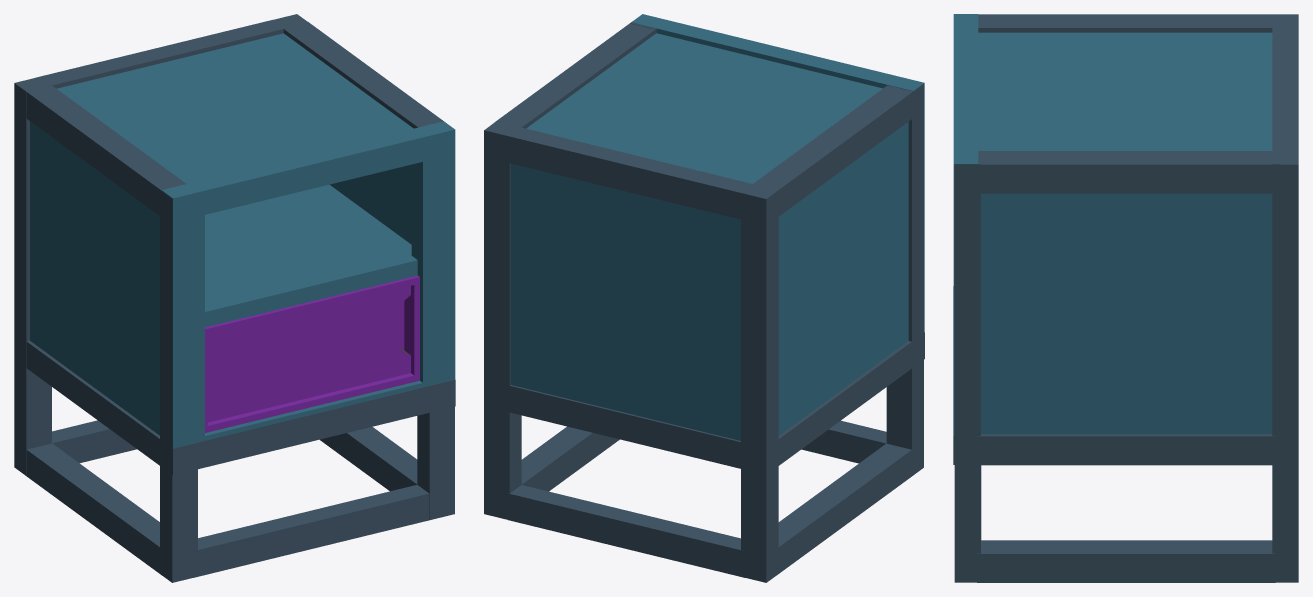
File: bedside_table_tier16.fbx
The picture shows the model from 3 angles, left to right: view 1: azimuth 30°, elevation 25°; view 2: azimuth 150°, elevation 25°; view 3: azimuth 270°, elevation 25°; orthographic projection. The views are drawn at different scales.
Visible parts, largest first — view 1: Cube.017, Cube.022, Cube.001, Cube.023, Cube.005, Cube.013, Cube.003, Cube.004, Cube.002, Cube.021, Cube.016, Cube.018 (+6 smaller); view 2: Cube.008, Cube.017, Cube.022, Cube.004, Cube.010, Cube.019, Cube.014, Cube.003, Cube.021, Cube.006, Cube.016, Cube.001 (+4 smaller); view 3: Cube.011, Cube.017, Cube.015, Cube.020, Cube.010, Cube.009, Cube.007, Cube.021, Cube.001, Cube.019.
Boxes of the visible parts, <box> form: Cube.017: <box>57,33,413,183</box>; Cube.022: <box>30,121,159,435</box>; Cube.001: <box>161,121,455,448</box>; Cube.023: <box>205,275,419,432</box>; Cube.005: <box>205,184,417,327</box>; Cube.013: <box>193,485,429,577</box>; Cube.003: <box>160,183,197,582</box>; Cube.004: <box>14,78,51,475</box>; Cube.002: <box>177,379,455,468</box>; Cube.021: <box>26,85,185,215</box>; Cube.016: <box>26,443,159,573</box>; Cube.018: <box>26,340,198,475</box>; Cube.008: <box>510,163,740,440</box>; Cube.017: <box>526,33,882,183</box>; Cube.022: <box>778,122,908,435</box>; Cube.004: <box>741,184,778,582</box>; Cube.010: <box>484,121,521,519</box>; Cube.019: <box>507,127,752,220</box>; Cube.014: <box>507,485,745,577</box>; Cube.003: <box>886,84,923,475</box>; Cube.021: <box>753,86,911,216</box>; Cube.006: <box>507,385,745,469</box>; Cube.016: <box>778,443,911,573</box>; Cube.001: <box>631,14,924,332</box>; Cube.011: <box>981,193,1272,434</box>; Cube.017: <box>978,32,1272,150</box>; Cube.015: <box>977,540,1275,582</box>; Cube.020: <box>977,151,1275,193</box>; Cube.010: <box>1272,151,1298,582</box>; Cube.009: <box>954,150,980,582</box>; Cube.007: <box>977,434,1275,465</box>; Cube.021: <box>978,14,1272,32</box>; Cube.001: <box>953,14,978,435</box>; Cube.019: <box>1272,25,1298,151</box>.
Bounding box in the file's own units: 77.7 × 101 × 75.52.
